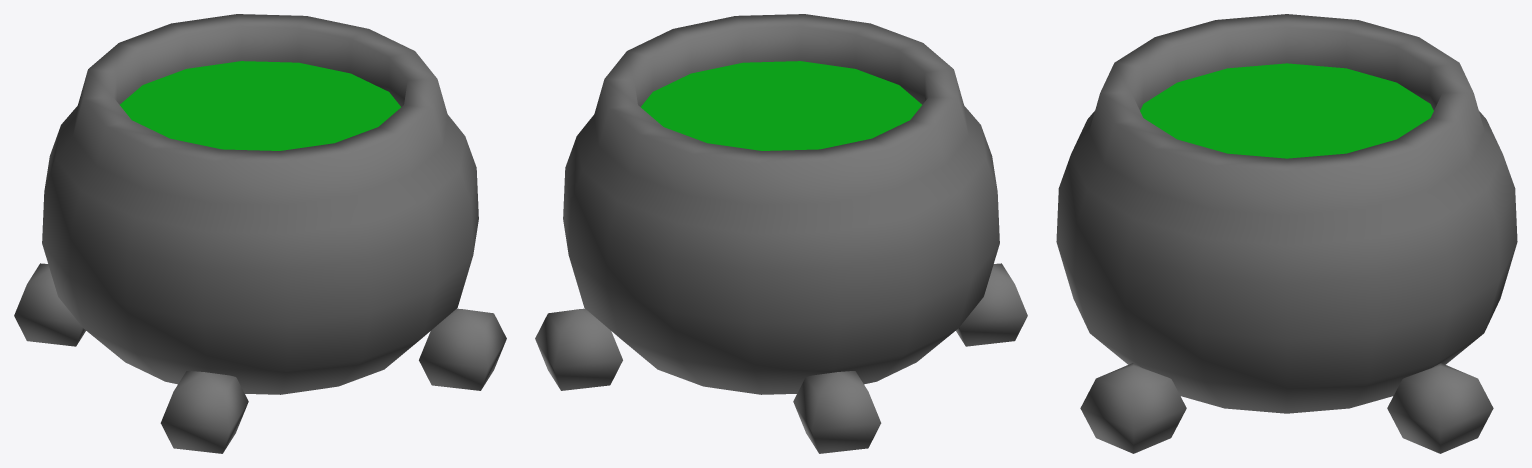
Rendered from Cauldron.fbx.
3 renders of one model, left to right at view 1: azimuth 30°, elevation 25°; view 2: azimuth 150°, elevation 25°; view 3: azimuth 270°, elevation 25°, orthographic. The views are drawn at different scales.
Parts seen in each view (by area): view 1: Cauldron_Main, Cauldron_Feet; view 2: Cauldron_Main, Cauldron_Feet; view 3: Cauldron_Main, Cauldron_Feet.
Boxes of the visible parts, bbox=[...] form: Cauldron_Main: bbox=[42, 14, 478, 394]; Cauldron_Feet: bbox=[14, 263, 506, 453]; Cauldron_Main: bbox=[563, 14, 999, 394]; Cauldron_Feet: bbox=[535, 263, 1027, 453]; Cauldron_Main: bbox=[1056, 14, 1517, 413]; Cauldron_Feet: bbox=[1080, 363, 1493, 453].
Bounding box in the file's own units: 178 × 121 × 178.
